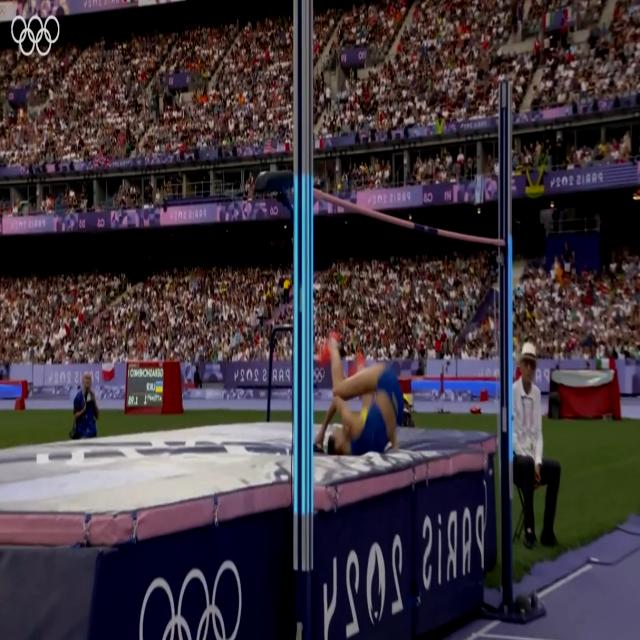land: (314, 330, 403, 454)
